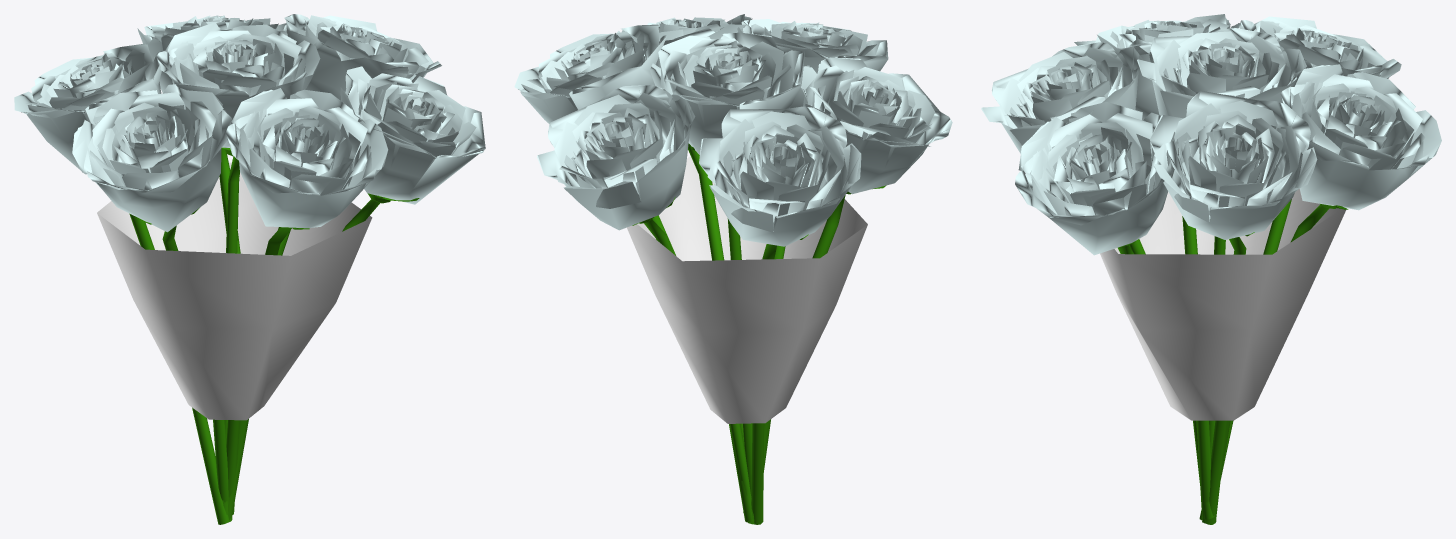
The model's file is AZRoseBouquet.fbx.
The picture shows the model from 3 angles, left to right: view 1: azimuth 30°, elevation 25°; view 2: azimuth 150°, elevation 25°; view 3: azimuth 270°, elevation 25°; orthographic projection. The views are drawn at different scales.
Parts seen in each view (by area): view 1: RoseBouquet; view 2: RoseBouquet; view 3: RoseBouquet.
Part boxes in pixels (bbox=[...]): RoseBouquet: bbox=[14, 14, 485, 524]; RoseBouquet: bbox=[514, 14, 952, 524]; RoseBouquet: bbox=[981, 14, 1441, 524].
Bounding box in the file's own units: 0.2796 × 0.3304 × 0.2866.
